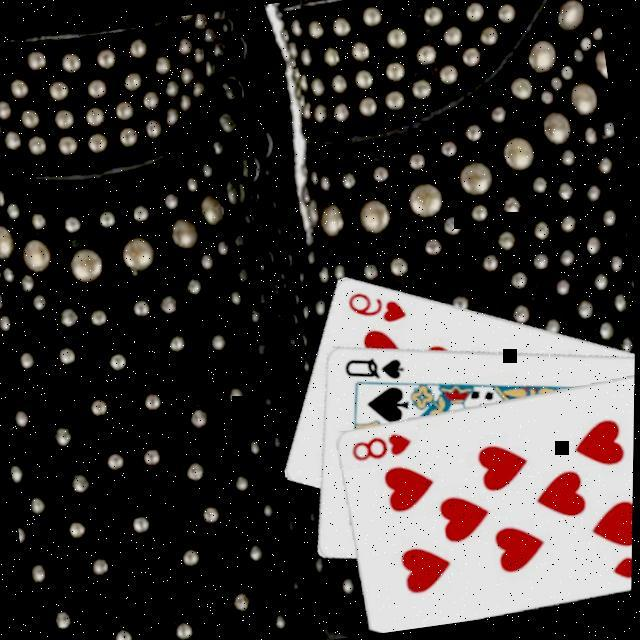8H: (347, 430, 416, 468), (608, 548, 633, 585)
9H: (342, 284, 411, 333)
QS: (339, 350, 408, 391)
